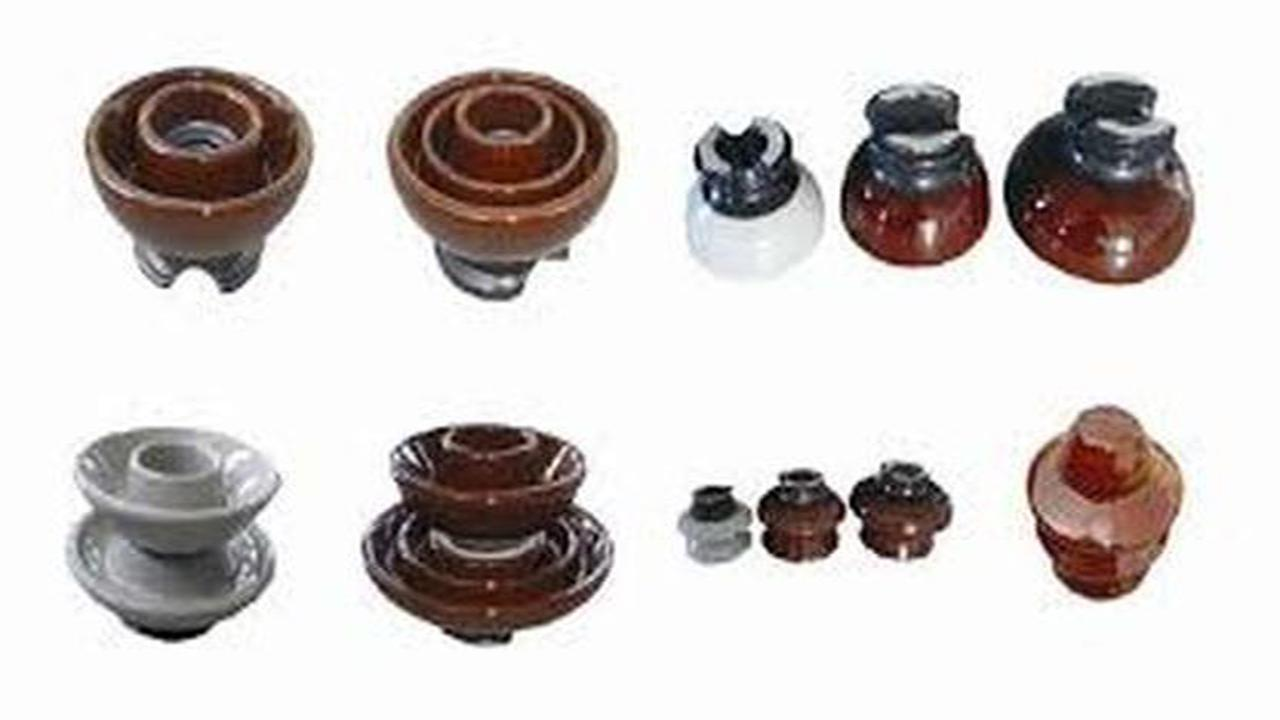insulator_pin: (1000, 73, 1222, 290)
